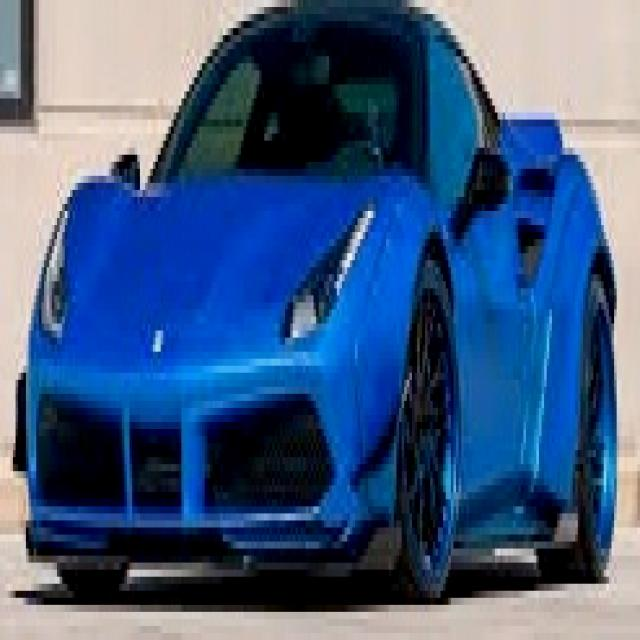blue: (24, 1, 640, 640)
